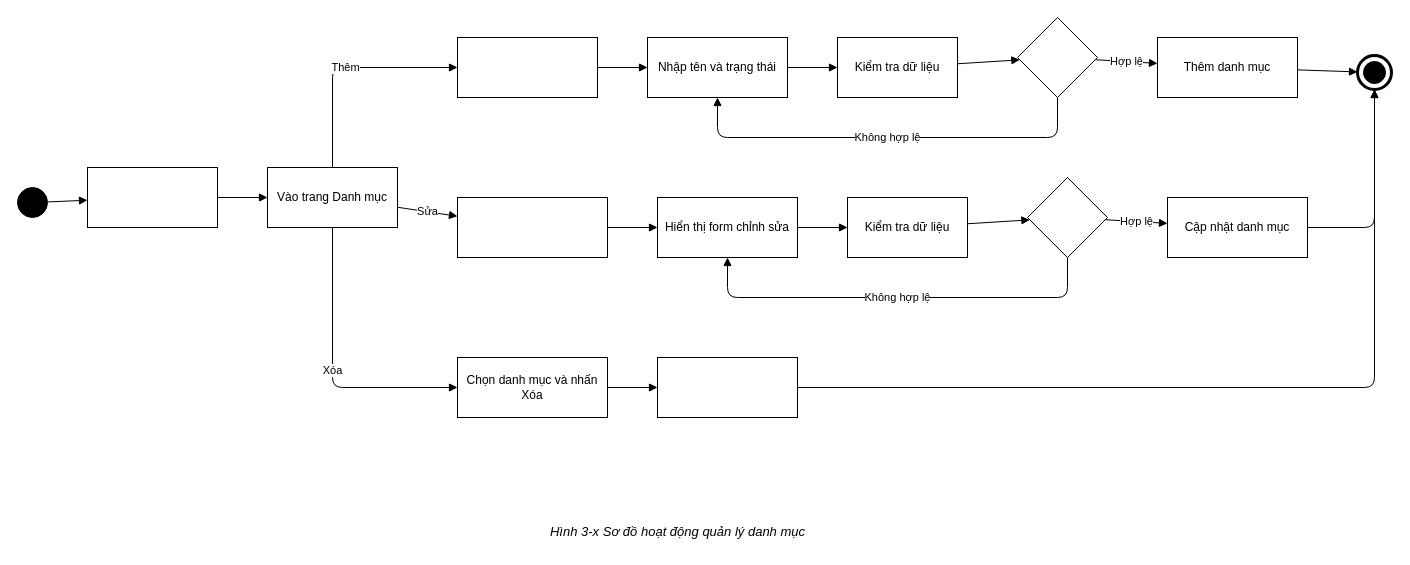
Image size: 1410x565. Some labels were removed from this diagram. Here are the shapes that lost their labels. From the top down, the centre of each, then its label:
At (527,67): "Nhấn Thêm danh mục".
At (152,197): "Đăng nhập Admin".
At (532,227): "Chọn danh mục và nhấn Sửa".
At (727,387): "Xóa danh mục".
